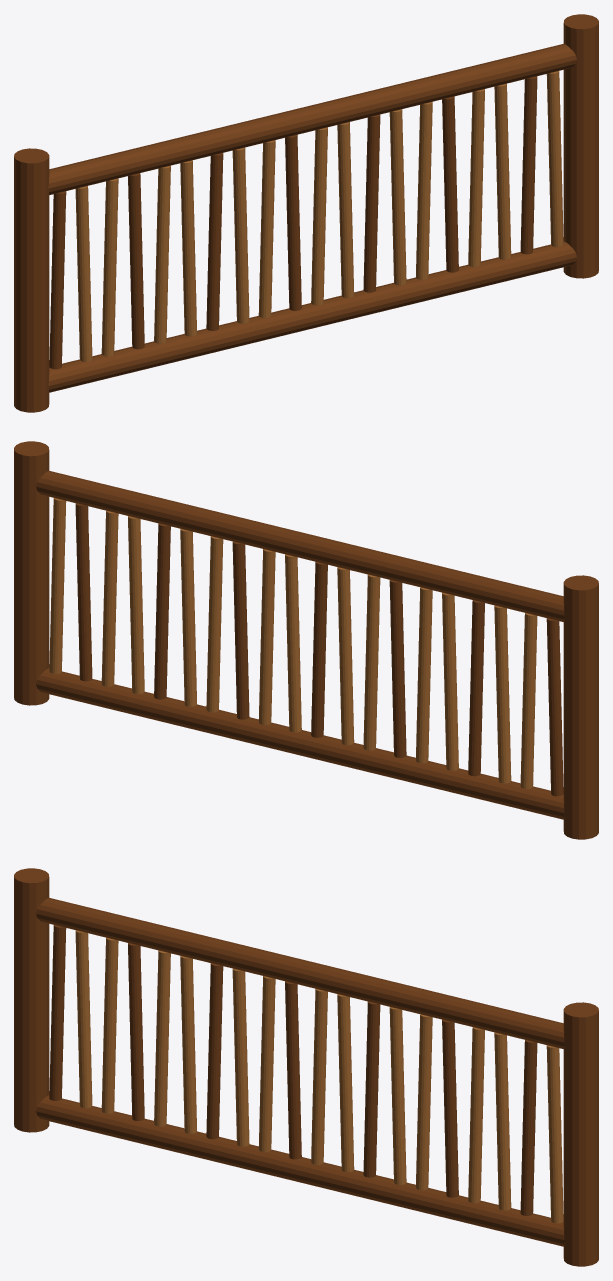
The model's file is Wooden_fence.obj.
3 renders of one model, top to bottom at view 1: azimuth 30°, elevation 25°; view 2: azimuth 150°, elevation 25°; view 3: azimuth 330°, elevation 25°, orthographic.
Parts seen in each view (by area): view 1: TopRail, BottomRail, Post_Left, Post_Right, Baluster_12, Baluster_18, Baluster_00, Baluster_02, Baluster_06, Baluster_08, Baluster_04, Baluster_10 (+12 smaller); view 2: TopRail, BottomRail, Post_Left, Post_Right, Baluster_12, Baluster_18, Baluster_00, Baluster_02, Baluster_06, Baluster_08, Baluster_04, Baluster_10 (+12 smaller); view 3: TopRail, BottomRail, Post_Right, Post_Left, Baluster_01, Baluster_07, Baluster_13, Baluster_17, Baluster_19, Baluster_11, Baluster_15, Baluster_05 (+12 smaller).
Part boxes in pixels (x1,y1,x2,y2): TopRail: [48, 43, 576, 194]; BottomRail: [48, 241, 576, 392]; Post_Left: [14, 148, 49, 412]; Post_Right: [563, 14, 598, 278]; Baluster_12: [363, 114, 380, 292]; Baluster_18: [520, 76, 537, 254]; Baluster_00: [49, 191, 66, 369]; Baluster_02: [101, 178, 118, 356]; Baluster_06: [206, 153, 223, 330]; Baluster_08: [258, 140, 275, 318]; Baluster_04: [154, 165, 170, 343]; Baluster_10: [311, 127, 327, 305]; TopRail: [36, 470, 564, 621]; BottomRail: [36, 668, 564, 819]; Post_Left: [563, 575, 598, 839]; Post_Right: [14, 441, 49, 705]; Baluster_12: [232, 541, 249, 719]; Baluster_18: [75, 503, 92, 681]; Baluster_00: [546, 618, 563, 796]; Baluster_02: [494, 605, 511, 783]; Baluster_06: [389, 580, 406, 757]; Baluster_08: [337, 567, 354, 745]; Baluster_04: [442, 592, 458, 770]; Baluster_10: [285, 554, 301, 732]; TopRail: [36, 897, 564, 1048]; BottomRail: [36, 1095, 564, 1246]; Post_Right: [563, 1002, 598, 1266]; Post_Left: [14, 868, 49, 1132]; Baluster_01: [75, 930, 92, 1108]; Baluster_07: [232, 968, 249, 1146]; Baluster_13: [389, 1007, 406, 1184]; Baluster_17: [494, 1032, 511, 1210]; Baluster_19: [546, 1045, 563, 1223]; Baluster_11: [337, 994, 354, 1172]; Baluster_15: [442, 1019, 458, 1197]; Baluster_05: [180, 956, 196, 1133].
Bounding box in the file's own units: 3.17 × 1.3 × 0.168.
